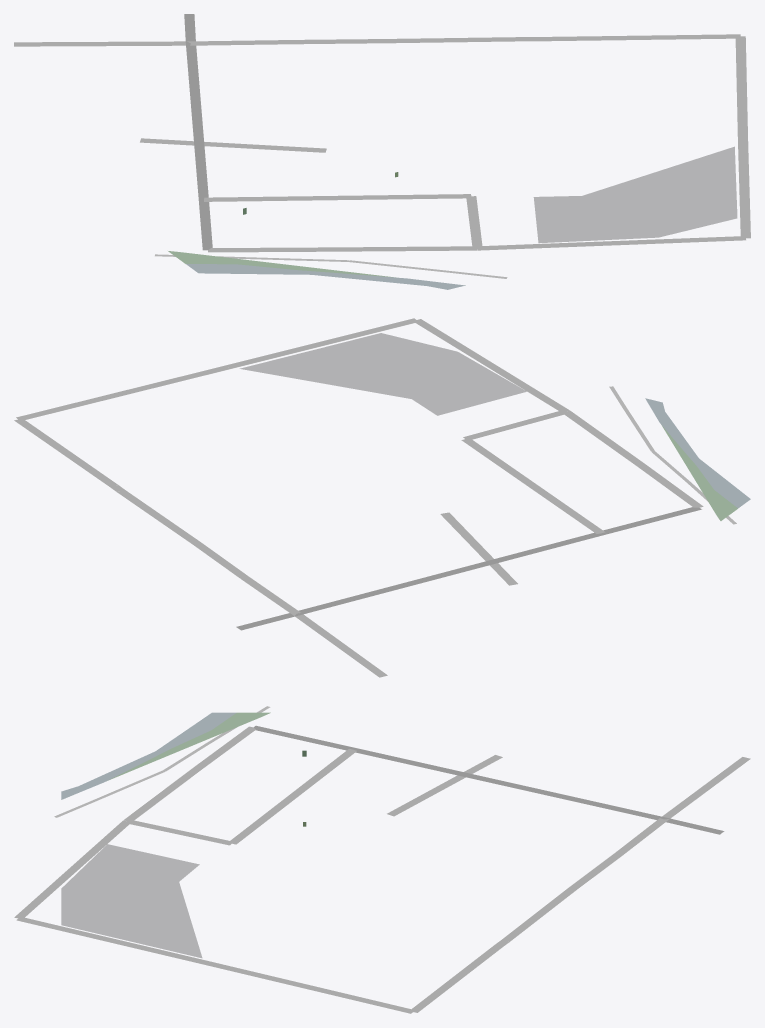
3 renders of one model, top to bottom at view 1: azimuth 30°, elevation 25°; view 2: azimuth 150°, elevation 25°; view 3: azimuth 270°, elevation 25°, orthographic. The views are drawn at different scales.
Size of the model in its own units: 527 by 5.17 by 530.
